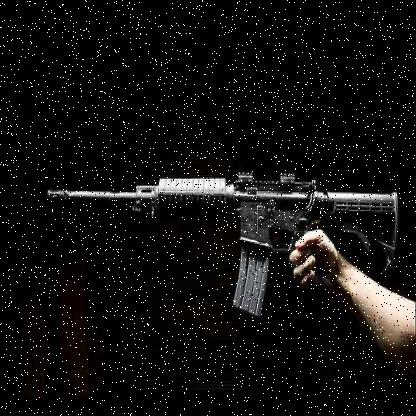rifle: (40, 149, 396, 347)
